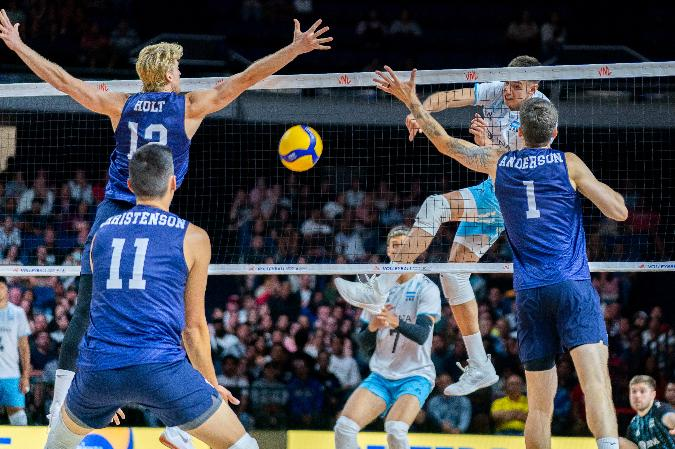ballon_volley: (277, 123, 324, 173)
